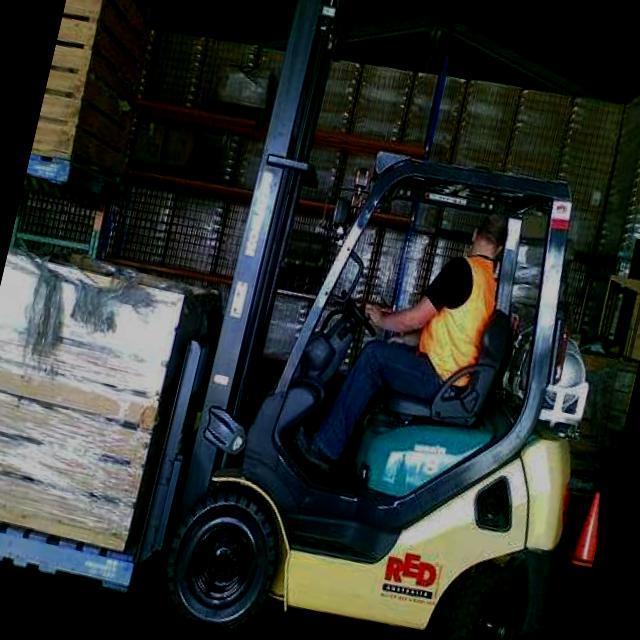driver: (283, 175, 530, 510)
forklift: (122, 62, 640, 640)
